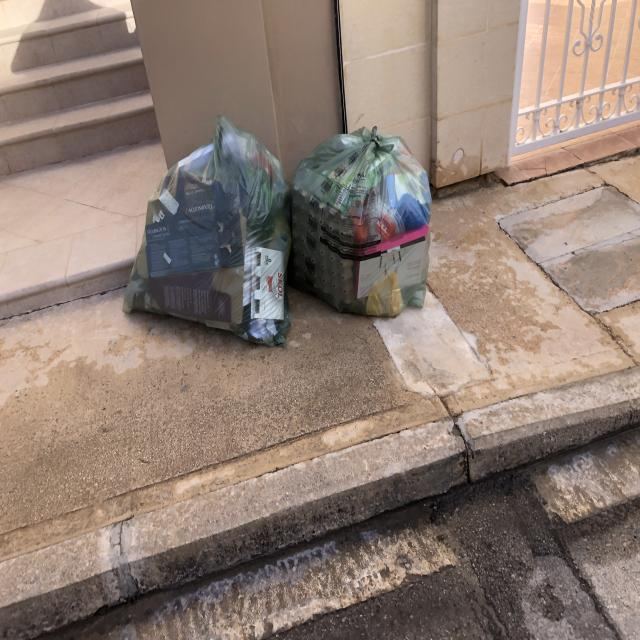Recycled Waste -Grey or Green Bag-: (123, 120, 295, 359), (283, 123, 437, 326)
